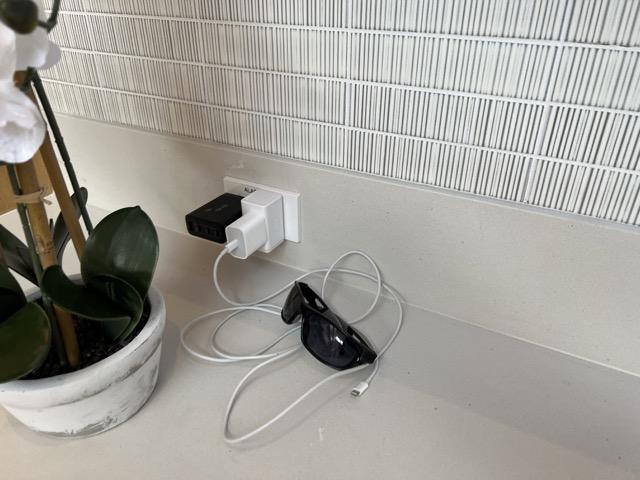Sunglasses: (281, 279, 377, 373)
